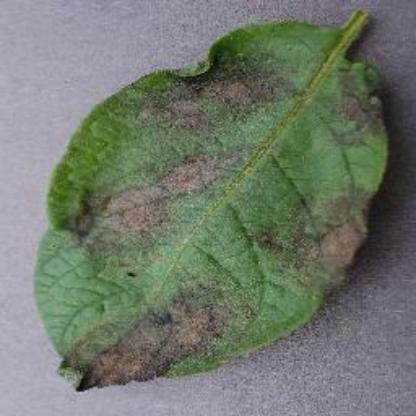Late-Blight: (24, 26, 398, 398)
